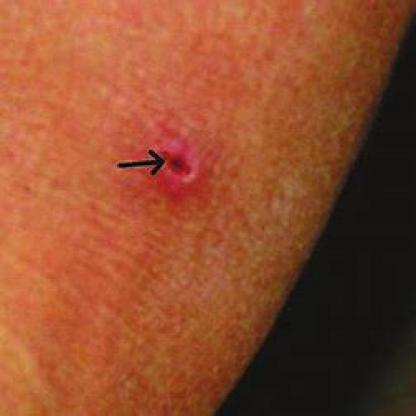Wasp: (146, 124, 202, 196)
